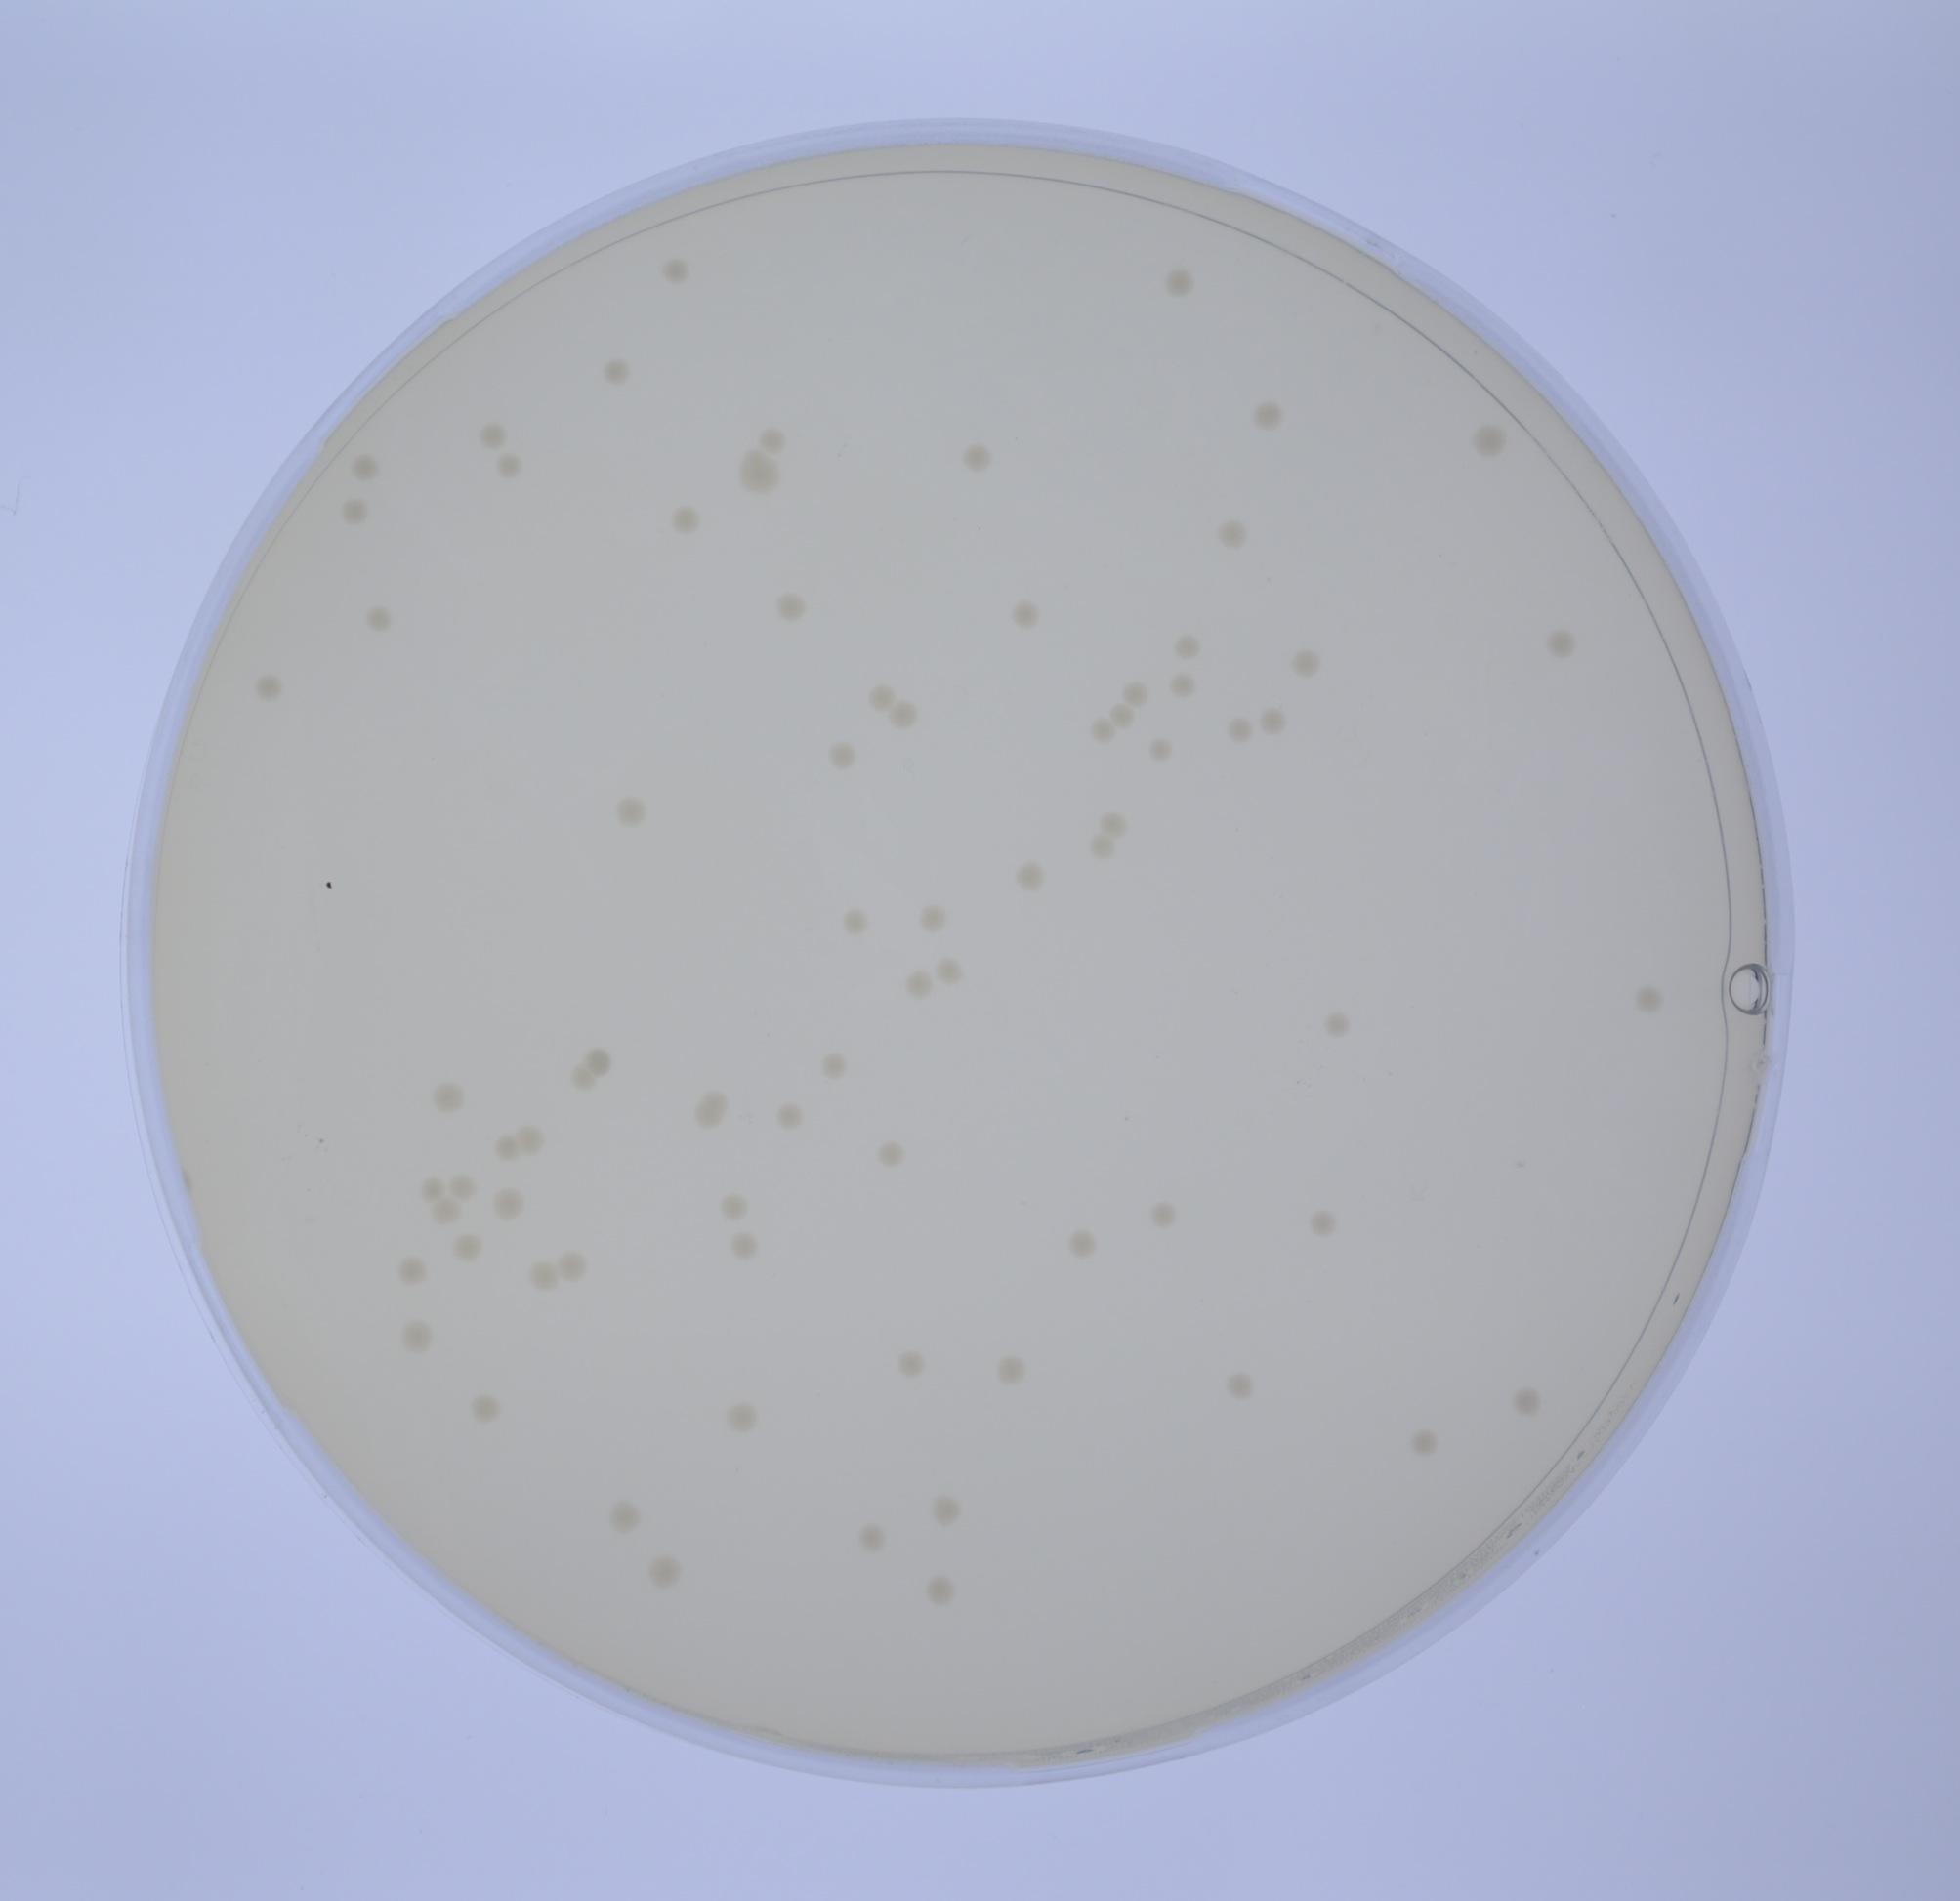colony: (885, 1336, 940, 1385), (1244, 393, 1291, 442), (1055, 1219, 1106, 1263), (1536, 619, 1582, 666), (1157, 259, 1206, 303), (602, 1494, 651, 1535), (737, 455, 786, 497), (429, 1074, 474, 1118), (990, 1347, 1036, 1390), (1141, 1189, 1188, 1231), (357, 600, 402, 642), (1008, 857, 1053, 899), (847, 1520, 892, 1562), (1001, 593, 1045, 635), (1465, 421, 1508, 463), (1302, 1198, 1342, 1243), (922, 1569, 962, 1614), (486, 1180, 528, 1222), (593, 352, 637, 392), (654, 248, 698, 289), (334, 484, 378, 525), (611, 790, 651, 834), (836, 901, 882, 939), (957, 437, 999, 477), (553, 1245, 593, 1287), (1283, 644, 1326, 682), (511, 1118, 549, 1161), (1220, 710, 1260, 750), (667, 495, 709, 533), (474, 413, 516, 451), (763, 1097, 805, 1135), (871, 1135, 913, 1173), (1403, 1424, 1445, 1462), (1214, 514, 1255, 553), (1171, 626, 1209, 666), (1318, 1004, 1356, 1044), (397, 1319, 436, 1359), (1223, 1364, 1260, 1406), (343, 448, 387, 483), (1141, 729, 1179, 768), (1255, 701, 1293, 740), (248, 668, 285, 708), (464, 1390, 504, 1427), (899, 965, 940, 1002), (644, 1551, 681, 1590), (724, 1229, 765, 1264), (817, 1048, 852, 1088), (821, 735, 859, 769), (525, 1257, 560, 1296), (924, 1494, 964, 1527), (1508, 1382, 1545, 1417), (1627, 979, 1662, 1016), (392, 1254, 429, 1289), (884, 698, 920, 733), (723, 1399, 761, 1432), (716, 1187, 751, 1222), (1095, 806, 1130, 841), (754, 418, 791, 451), (446, 1229, 483, 1263), (490, 1132, 523, 1168), (772, 586, 810, 617), (565, 1062, 598, 1097), (700, 1083, 735, 1116), (1106, 698, 1139, 731), (1085, 714, 1118, 747), (864, 682, 898, 715), (492, 451, 527, 483), (933, 957, 968, 988), (444, 1172, 479, 1203), (1122, 677, 1153, 712), (583, 1042, 614, 1077), (429, 1196, 462, 1228), (691, 1104, 724, 1133), (917, 904, 952, 932), (1087, 832, 1116, 864), (416, 1175, 446, 1205), (1164, 673, 1197, 698), (740, 444, 766, 469)
